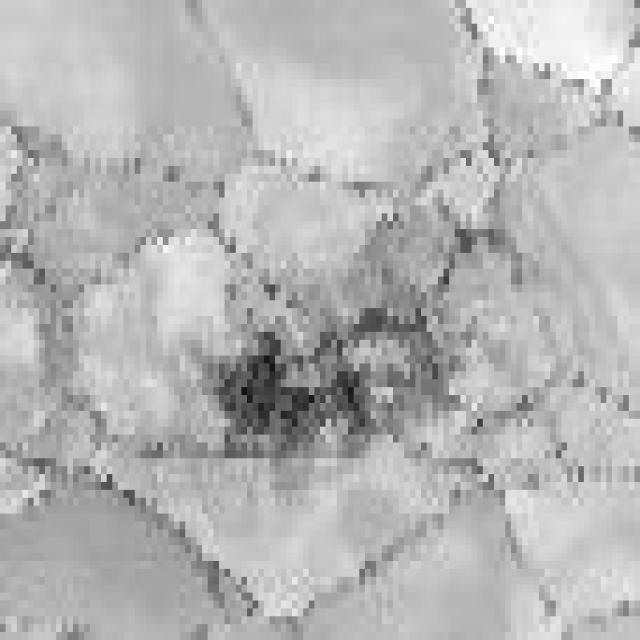good_void: (197, 204, 506, 486)
